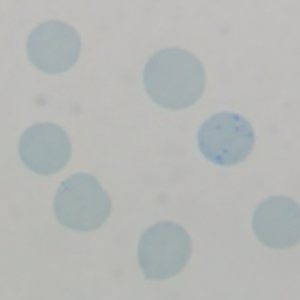erythrocyte: (141, 46, 207, 111), (51, 171, 113, 234), (135, 219, 195, 282), (24, 19, 84, 75), (16, 121, 74, 177), (250, 194, 300, 250)
punctate reticulocyte: (194, 110, 257, 168)
